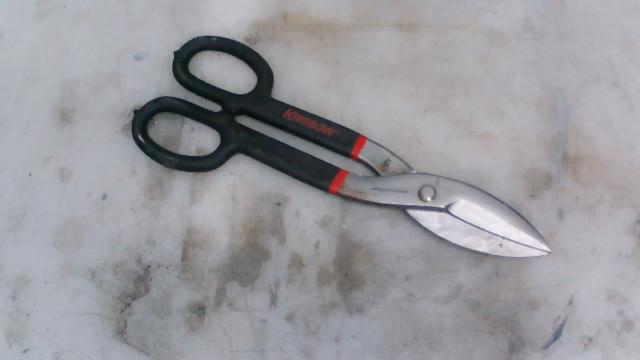gunting_plat: (100, 14, 573, 285)
